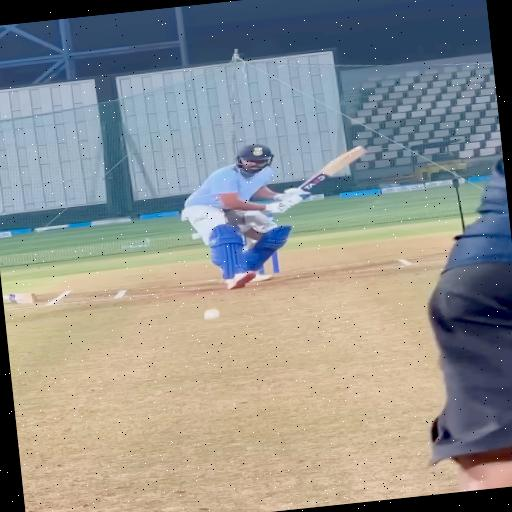Cricket bat: (300, 146, 365, 198)
